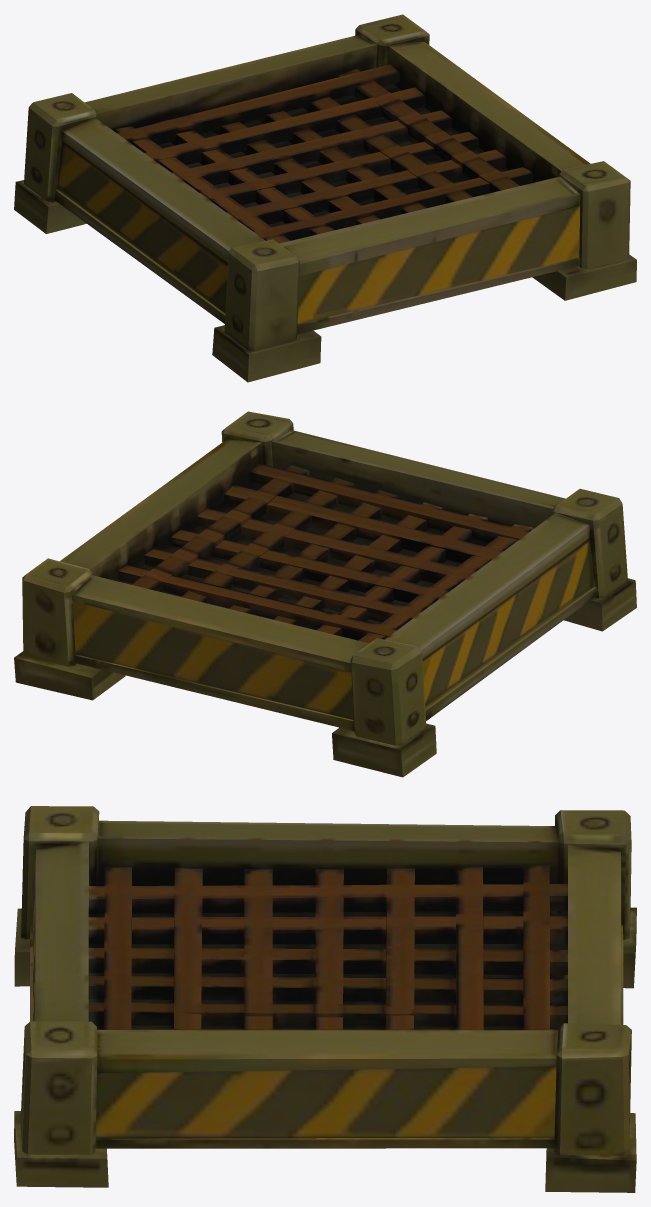
File: sewer_catwalk_grated_floor.fbx
The picture shows the model from 3 angles, top to bottom: view 1: azimuth 30°, elevation 25°; view 2: azimuth 150°, elevation 25°; view 3: azimuth 270°, elevation 25°; orthographic projection. The views are drawn at different scales.
Visible parts, largest first — view 1: sewer_catwalk_grated_floor; view 2: sewer_catwalk_grated_floor; view 3: sewer_catwalk_grated_floor.
Part boxes in pixels (box(x1,y1,x2,y2)): sewer_catwalk_grated_floor: box(14, 14, 636, 382); sewer_catwalk_grated_floor: box(14, 411, 636, 777); sewer_catwalk_grated_floor: box(14, 806, 636, 1192).
Size of the model in its own units: 118 by 31.96 by 123.
Materials: 1 (1 with a texture image).
